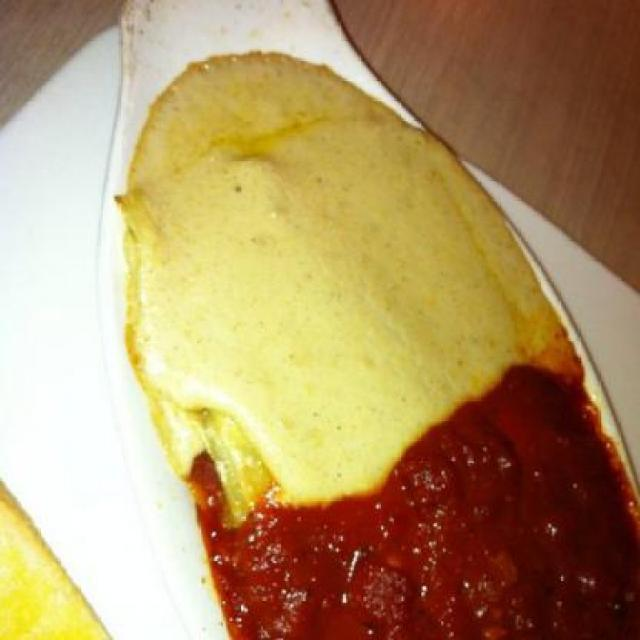Lasagna: (140, 298, 638, 616)
